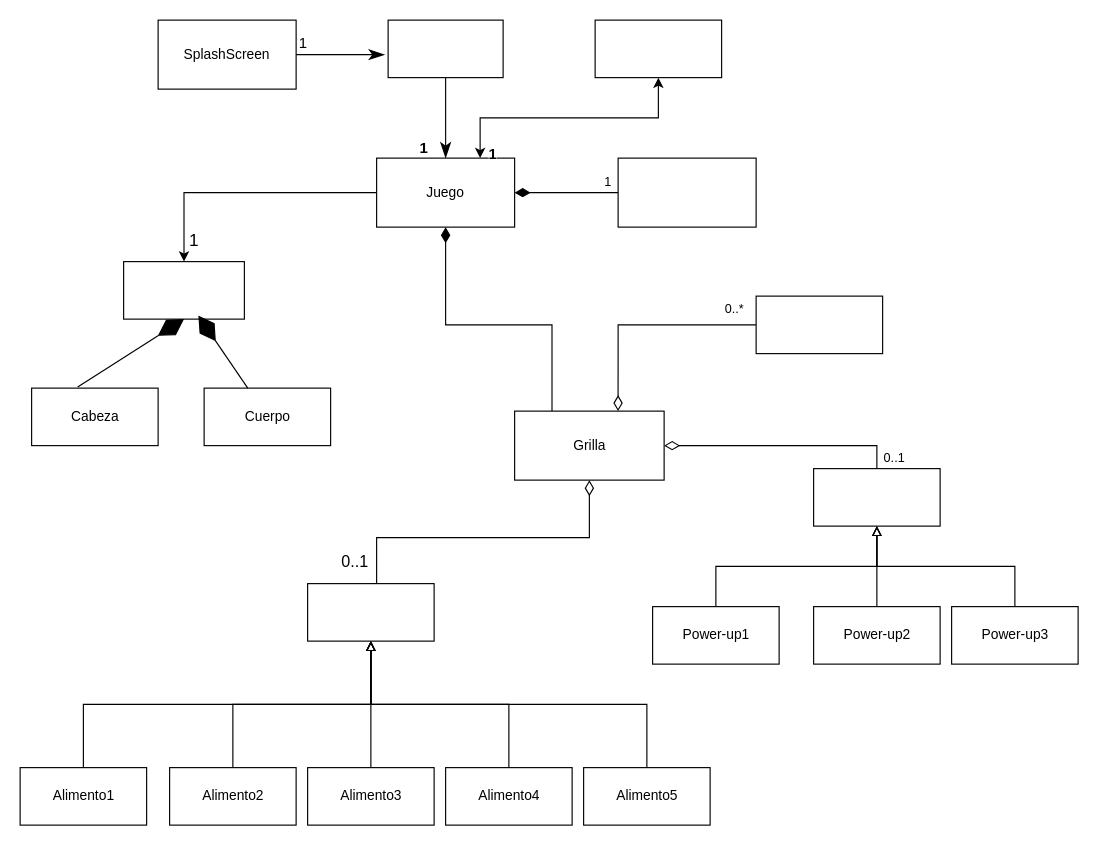
The diagram is 1098 pixels wide and 845 high, and some of its shapes have lost their labels. The box of each missing label's shape, as (x1, y1, x2, y2) in pixels:
Alimento: (306, 582, 434, 641)
Criatura: (122, 260, 244, 319)
Launcher: (387, 19, 503, 78)
Pared: (755, 295, 883, 354)
Power-up: (812, 467, 940, 526)
Reloj: (594, 19, 722, 78)
Ventana: (617, 157, 756, 227)
